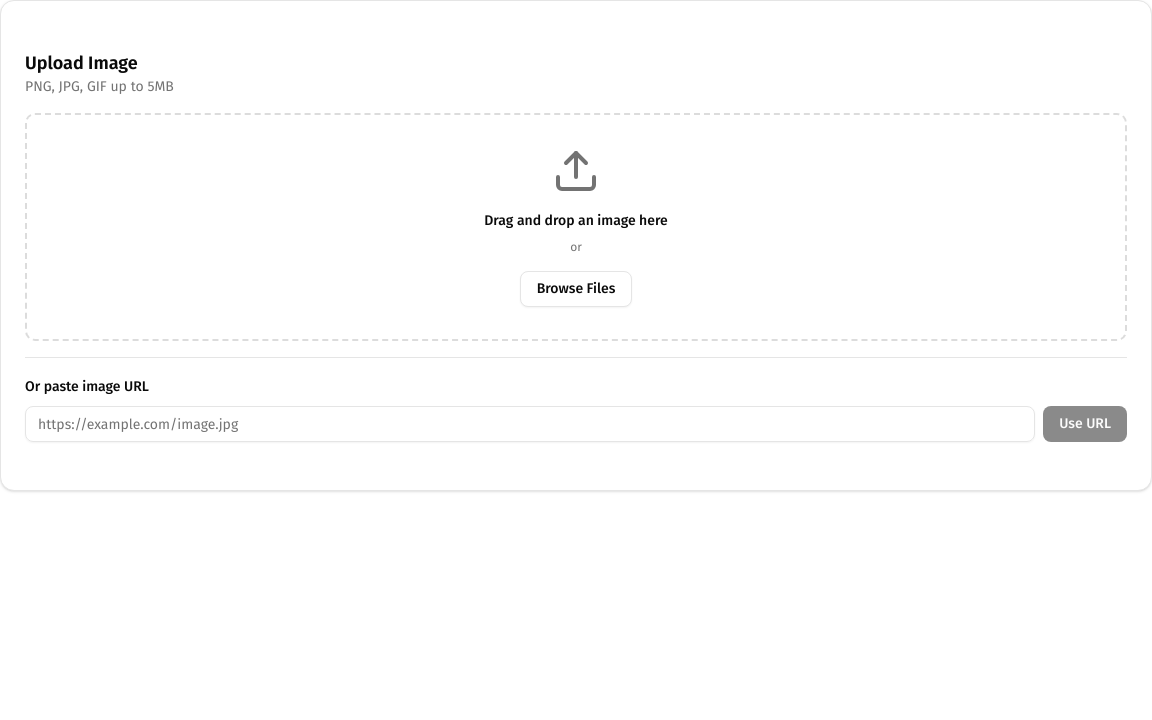
Test: ImageUploader Component › URL Input › should validate URL format
Type "not-a-valid-url" into the field with placeholder "https://example.com/image.jpg" at (530, 424), box [25,406,1035,442]
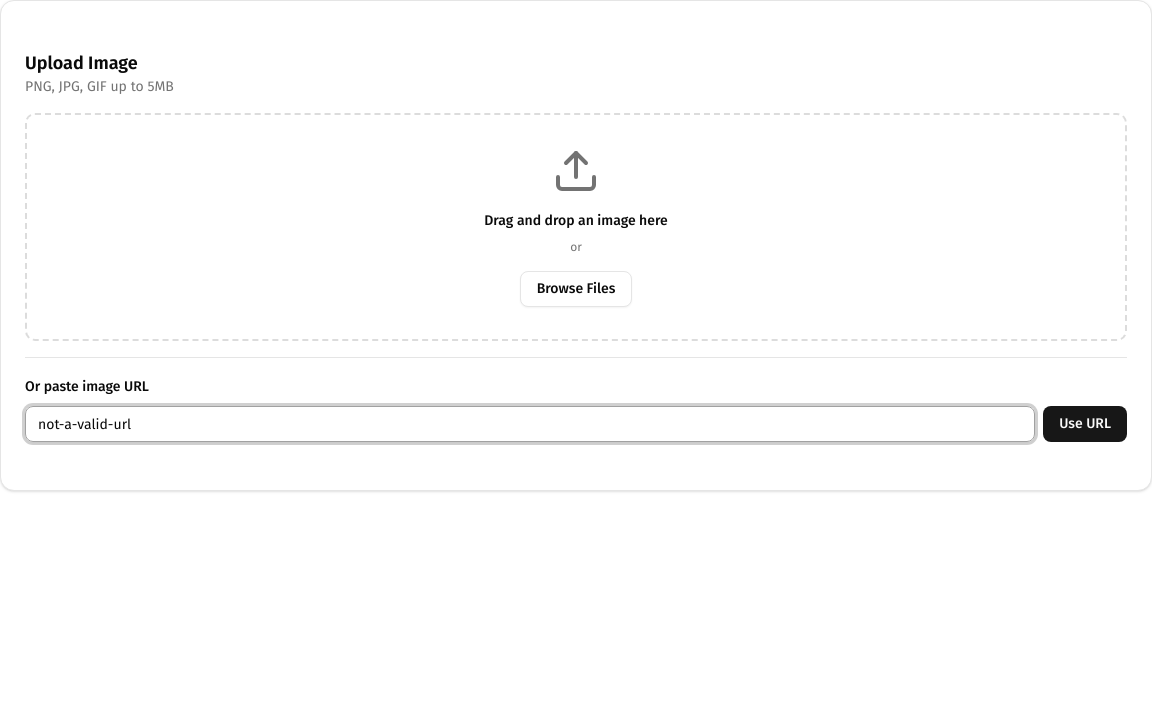
Click the button "Use URL" at (1085, 424), box [1043,406,1127,442]
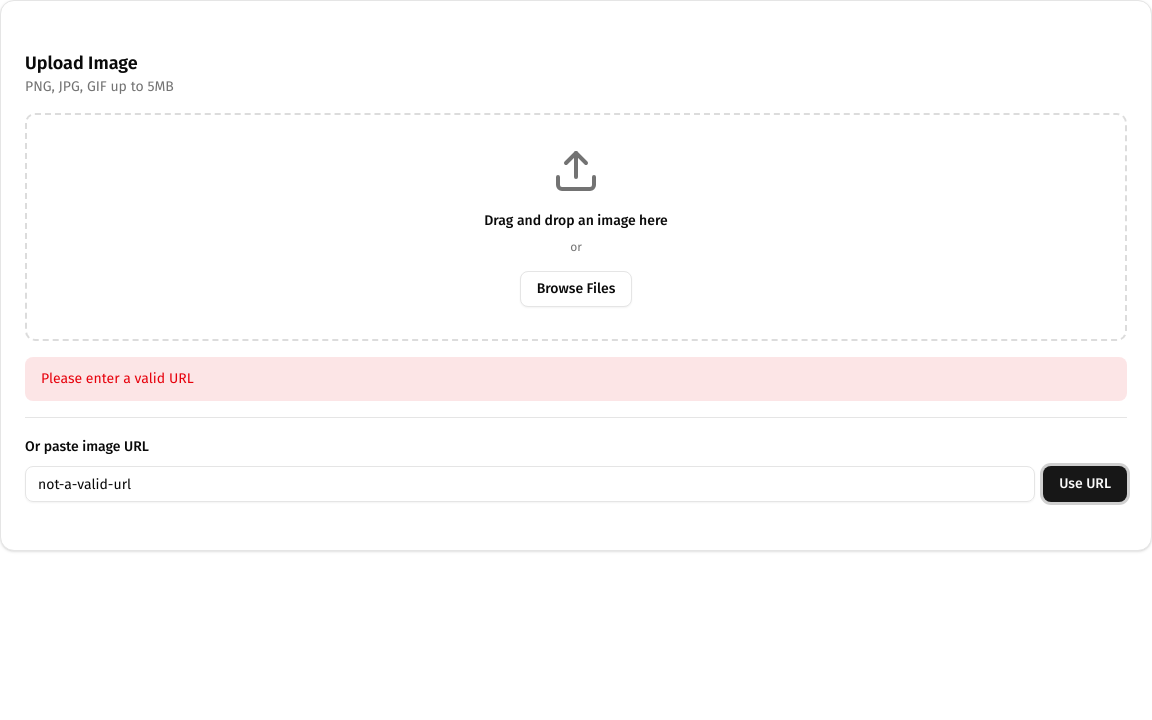
Expected: the text "Please enter a valid URL" is shown, [25,357,1127,401]
